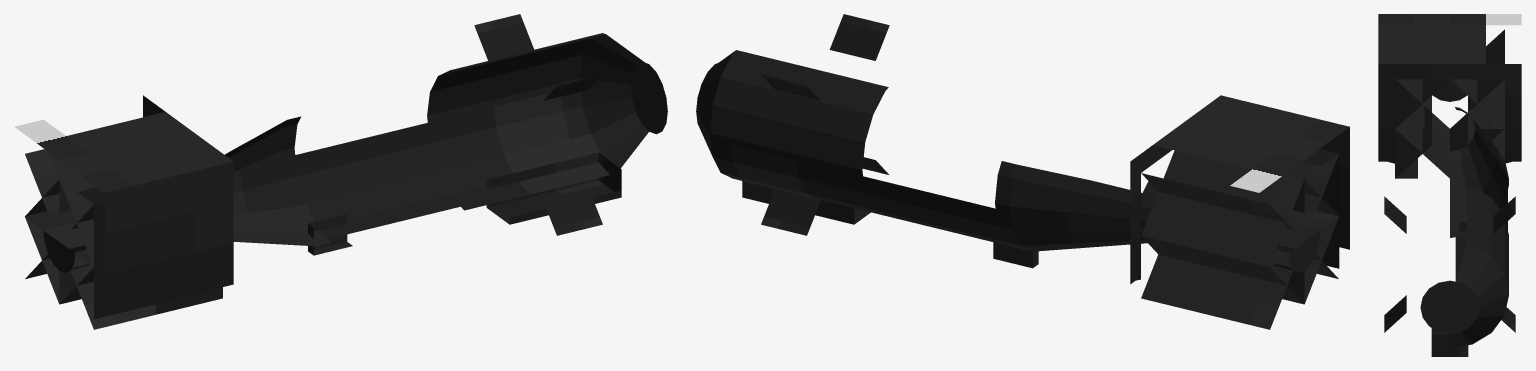
Rendered from nuke_custom.obj.
The picture shows the model from 3 angles, left to right: view 1: azimuth 30°, elevation 25°; view 2: azimuth 150°, elevation 25°; view 3: azimuth 270°, elevation 25°; orthographic projection. The views are drawn at different scales.
Visible parts, largest first — view 1: Cylinder_Cylinder.002; view 2: Cylinder_Cylinder.002; view 3: Cylinder_Cylinder.002.
Boxes of the visible parts, <box> form: Cylinder_Cylinder.002: <box>14,14,667,329</box>; Cylinder_Cylinder.002: <box>696,14,1349,329</box>; Cylinder_Cylinder.002: <box>1378,14,1521,356</box>.
Bounding box in the file's own units: 3.2 × 0.85 × 0.85.
